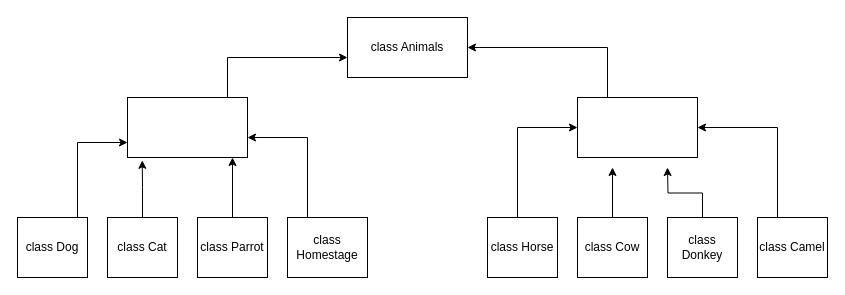
The diagram is 845 pixels wide and 295 high, and some of its shapes have lost their labels. Each missing label, with the centre of its shape:
class PackAnimals: the point at 637,127
class Pets: the point at 187,127
